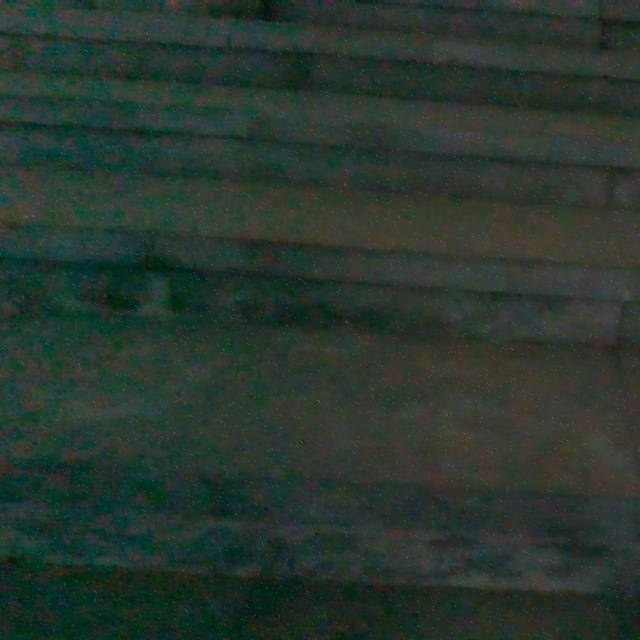stair: (0, 0, 594, 607)
